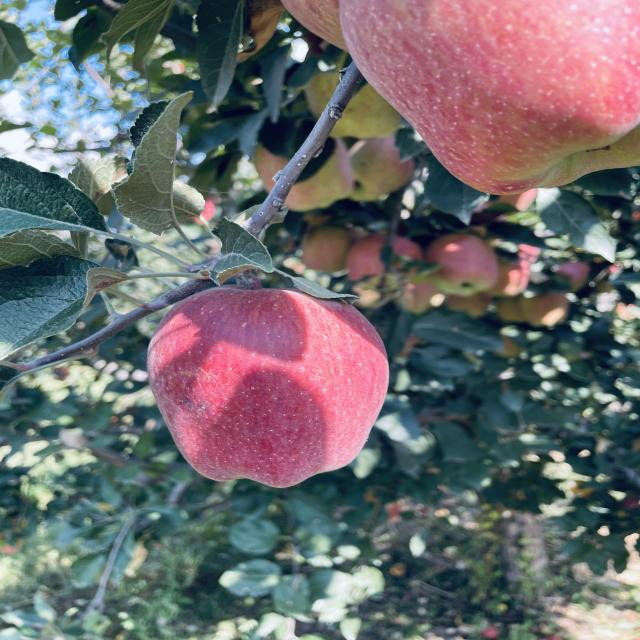Apple: (340, 0, 638, 194), (148, 285, 388, 488), (285, 139, 355, 211), (425, 234, 498, 296), (348, 135, 415, 201), (255, 145, 288, 192)
